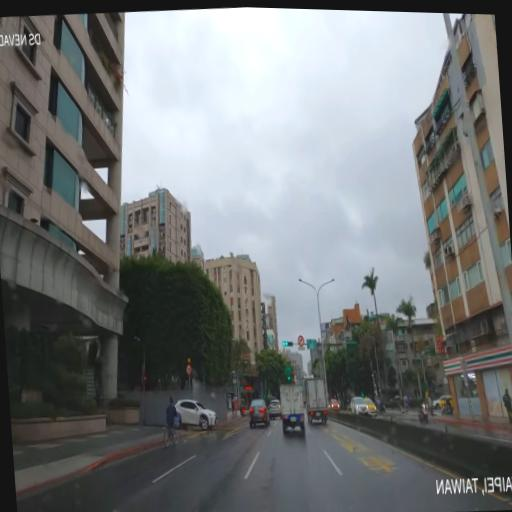Car: (169, 395, 220, 433), (278, 379, 306, 442), (304, 374, 330, 429), (246, 392, 271, 432), (347, 394, 370, 417), (359, 394, 379, 420), (432, 393, 458, 413), (268, 395, 284, 420), (330, 395, 340, 413)
